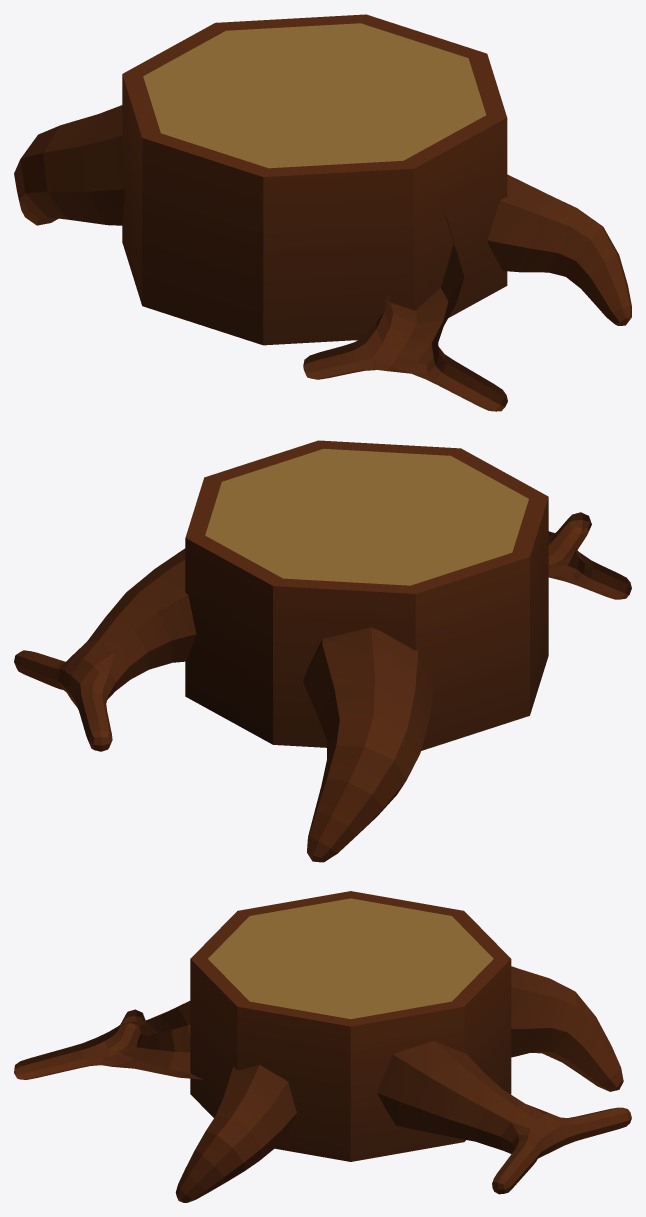
File: stump.glb
3 renders of one model, top to bottom at view 1: azimuth 30°, elevation 25°; view 2: azimuth 150°, elevation 25°; view 3: azimuth 270°, elevation 25°, orthographic. The views are drawn at different scales.
Visible parts, largest first — view 1: stump_merged; view 2: stump_merged; view 3: stump_merged.
Boxes of the visible parts, x1,y1,x2,y2 form: stump_merged: (14,14,631,411); stump_merged: (14,440,631,862); stump_merged: (14,891,631,1202).
Size of the model in its own units: 2.63 by 1.22 by 3.87.
Materials: 2 (2 with a texture image).
